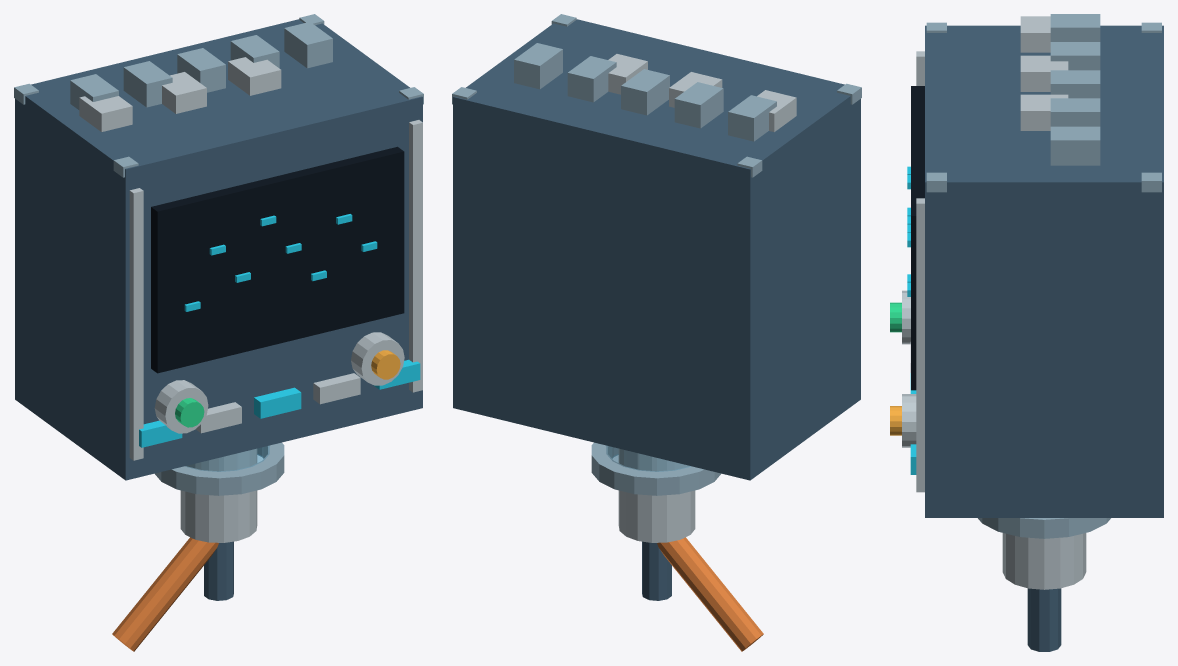
The model's file is 18_L73_SlurryMassFlowTransmitter.fbx.
3 renders of one model, left to right at view 1: azimuth 30°, elevation 25°; view 2: azimuth 150°, elevation 25°; view 3: azimuth 270°, elevation 25°, orthographic. The views are drawn at different scales.
Visible parts, largest first — view 1: SlurryMassFlowTransmitter; view 2: SlurryMassFlowTransmitter; view 3: SlurryMassFlowTransmitter.
Part boxes in pixels (bbox=[...]): SlurryMassFlowTransmitter: bbox=[14, 14, 423, 651]; SlurryMassFlowTransmitter: bbox=[452, 14, 861, 651]; SlurryMassFlowTransmitter: bbox=[890, 14, 1163, 651].
Bounding box in the file's own units: 62.72 × 112 × 45.85.
